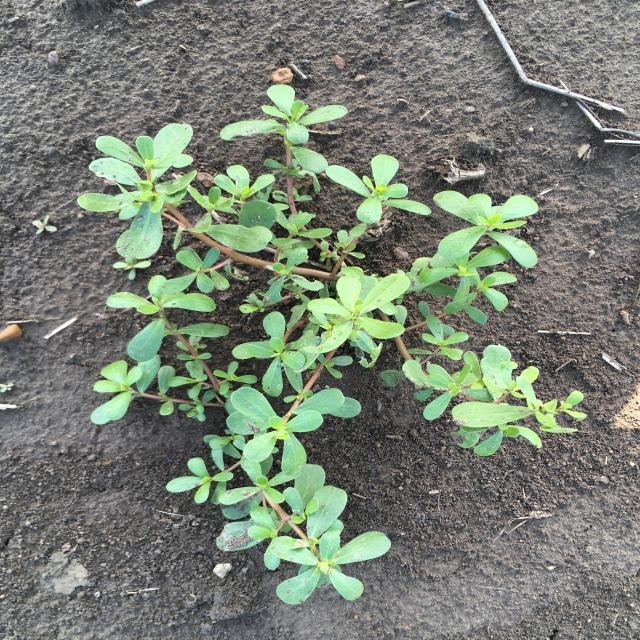Purslane: (77, 85, 587, 604)
